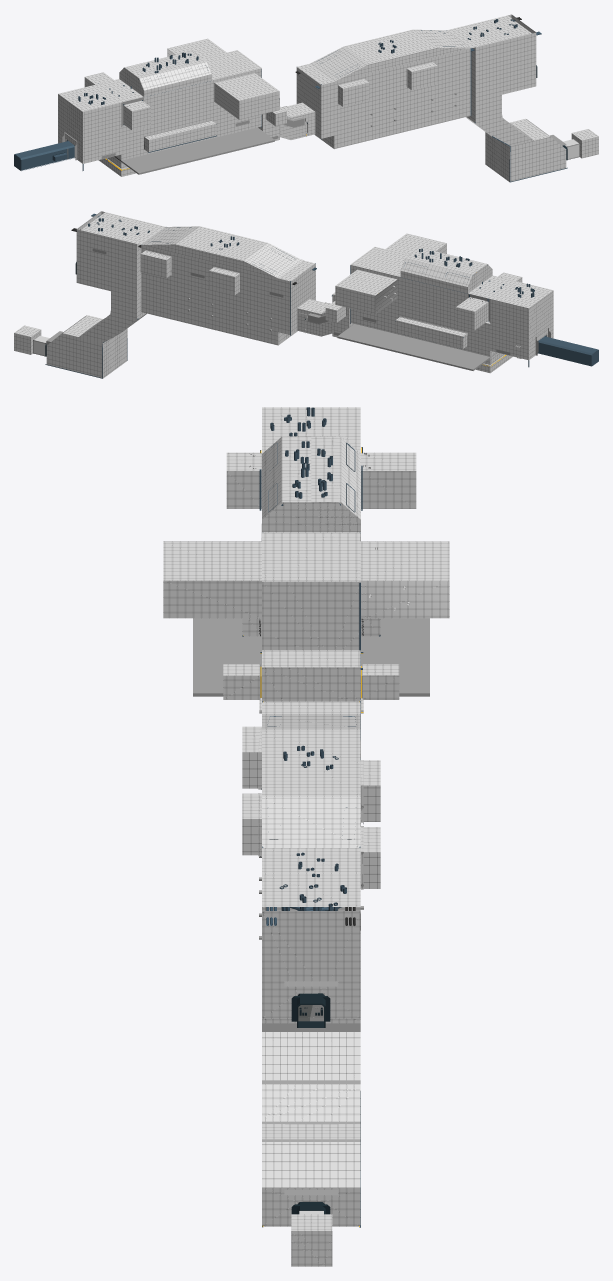
The model's file is Upload_map.fbx.
The picture shows the model from 3 angles, top to bottom: view 1: azimuth 30°, elevation 25°; view 2: azimuth 150°, elevation 25°; view 3: azimuth 270°, elevation 25°; orthographic projection. The views are drawn at different scales.
Visible parts, largest first — view 1: Rooms 4.011, Rooms 4.017, DoorDoubleLong_Wall_SideA.003, Map.001, Up thing.013, Rooms 4.021; view 2: Rooms 4.011, Rooms 4.017, DoorDoubleLong_Wall_SideA.003, Map.001, Up thing.013, Rooms 4.021; view 3: Rooms 4.011, Rooms 4.017, Up thing.013, Map.001, DoorDoubleLong_Wall_SideA.013.
Part boxes in pixels (x1,y1,x2,y2): Rooms 4.011: (58,14,566,181); Rooms 4.017: (58,15,531,117); DoorDoubleLong_Wall_SideA.003: (14,132,77,170); Map.001: (563,129,598,159); Up thing.013: (78,19,541,104); Rooms 4.021: (82,30,567,182); Rooms 4.011: (46,211,553,378); Rooms 4.017: (81,212,552,313); DoorDoubleLong_Wall_SideA.003: (535,327,598,366); Map.001: (14,325,49,356); Up thing.013: (88,213,534,297); Rooms 4.021: (45,244,529,378); Rooms 4.011: (163,436,449,1226); Rooms 4.017: (163,407,449,906); Up thing.013: (266,407,356,925); Map.001: (291,1210,332,1266); DoorDoubleLong_Wall_SideA.013: (284,981,338,1027).
Bounding box in the file's own units: 13460 × 4339 × 2900.
